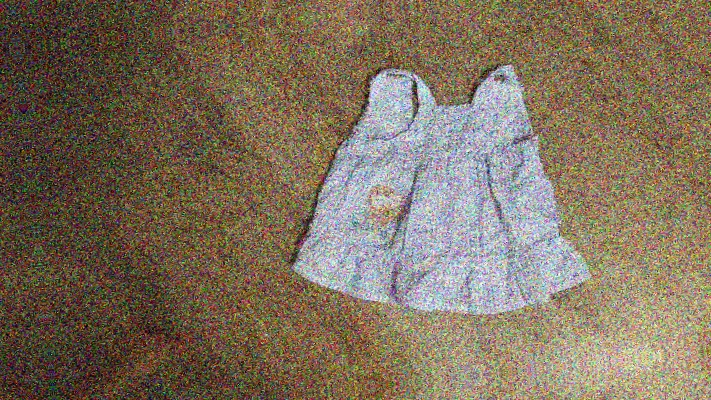Dress: (264, 47, 601, 328)
